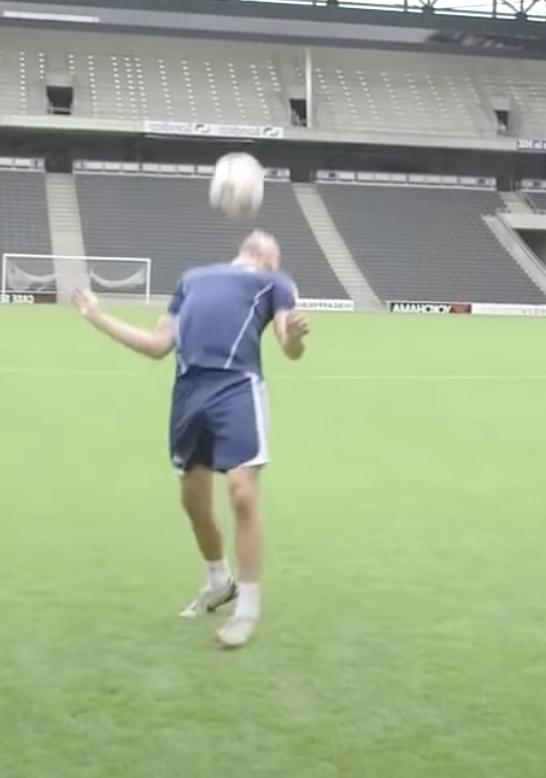ball: (209, 154, 264, 221)
foot: (181, 573, 238, 617), (216, 604, 261, 647)
person: (74, 231, 308, 646)
